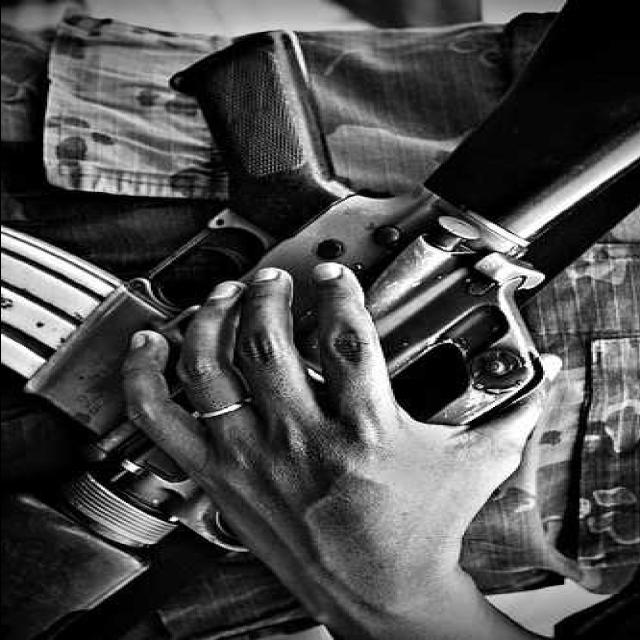heavyweapon: (1, 1, 639, 640)
